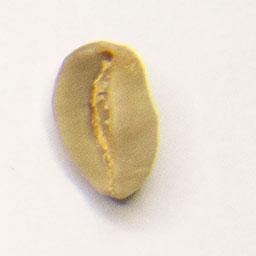longberry: (47, 37, 162, 205)
